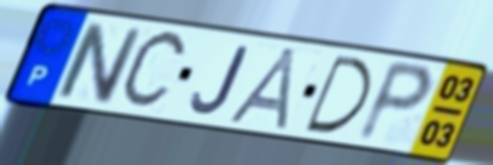A: (223, 45, 300, 133)
C: (115, 27, 193, 114)
D: (301, 52, 376, 137)
J: (190, 44, 251, 117)
N: (53, 19, 145, 107)
P: (352, 57, 437, 146)
